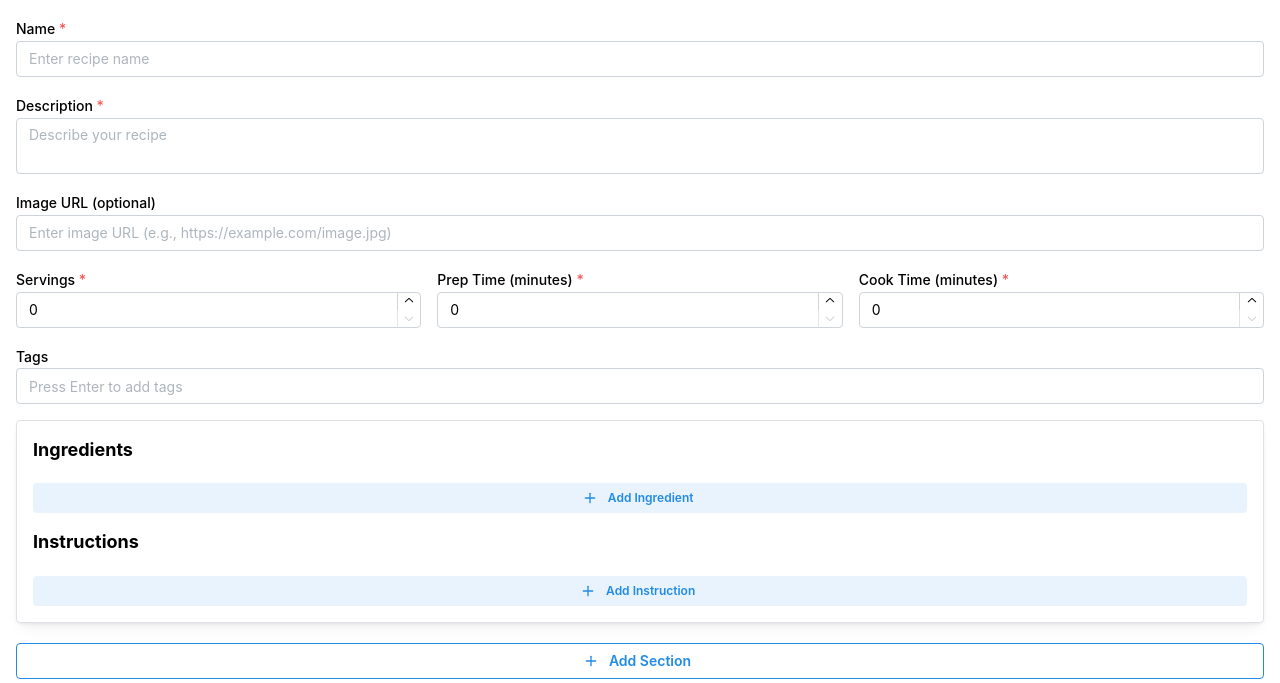
Test: RecipeForm - Sections Structure › Ingredients and instructions within sections › should allow adding instructions to a section
// Click "Add Instruction"
Click the button "Add Instruction" at (640, 590), box [33,576,1247,606]
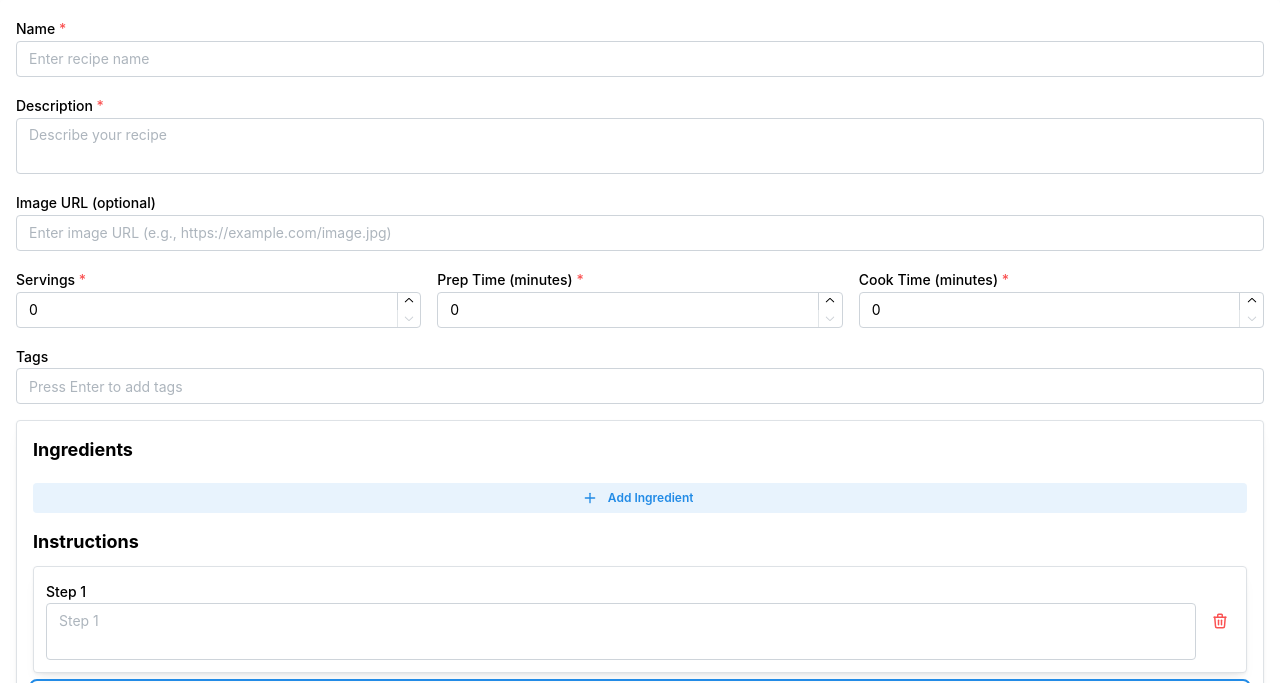
expect the text box with placeholder "Step 1" is shown: met, box [46,603,1196,660]
